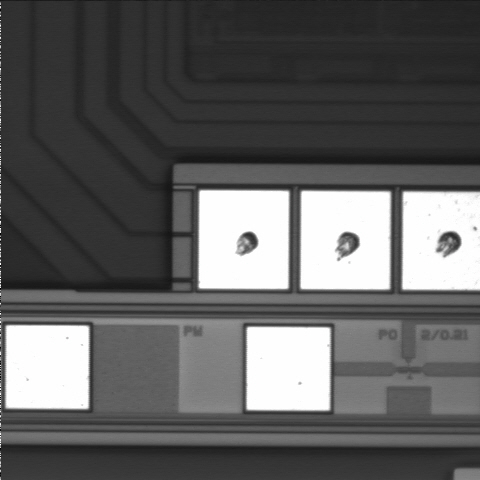pad: (199, 190, 289, 289), (301, 191, 390, 289), (6, 325, 89, 409), (247, 327, 330, 410)
